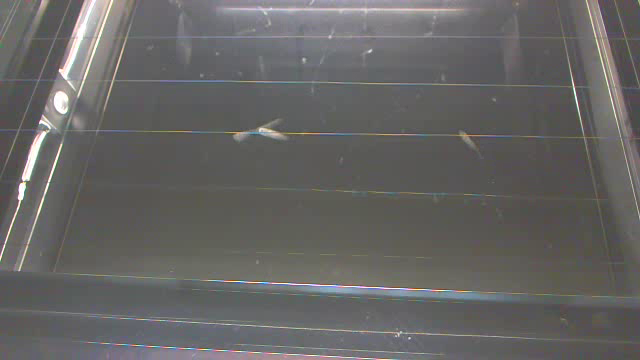alpha: (233, 115, 282, 141), (455, 127, 482, 158), (257, 127, 290, 144)
